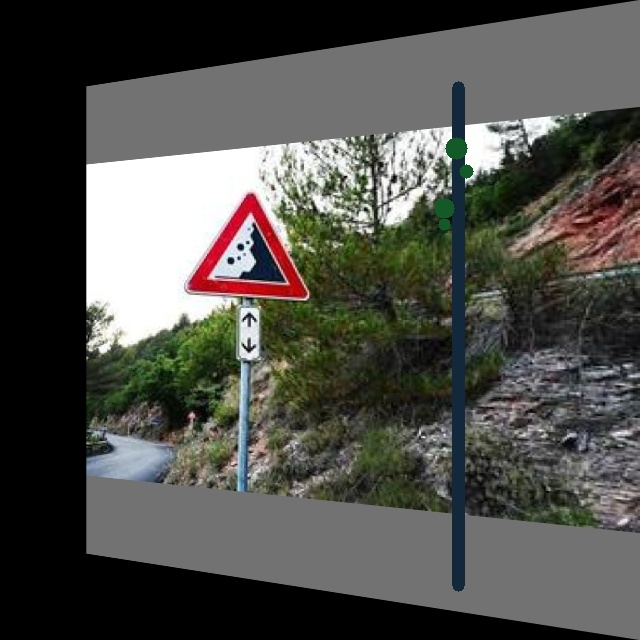Falling_Rocks: (179, 188, 314, 300)
